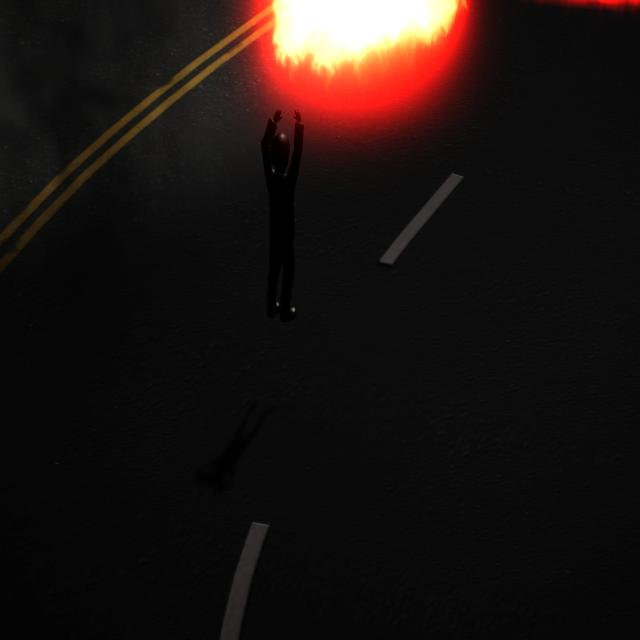Human: (254, 103, 310, 330)
